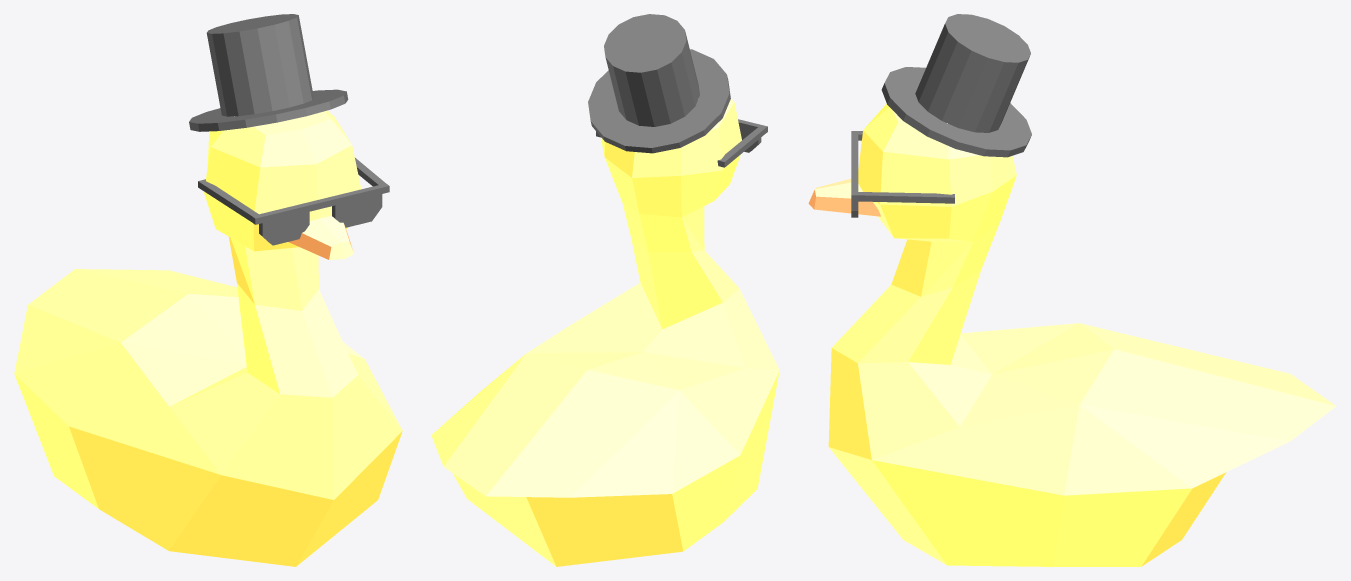
The model's file is adult duck.fbx.
The picture shows the model from 3 angles, left to right: view 1: azimuth 30°, elevation 25°; view 2: azimuth 150°, elevation 25°; view 3: azimuth 270°, elevation 25°; orthographic projection. The views are drawn at different scales.
Visible parts, largest first — view 1: Cube.004, Cylinder.002, Cube.006, Cube.005; view 2: Cube.004, Cylinder.002, Cube.006; view 3: Cube.004, Cylinder.002, Cube.006, Cube.005.
Boxes of the visible parts, x1,y1,x2,y2 form: Cube.004: (14, 110, 402, 566); Cylinder.002: (189, 14, 348, 131); Cube.006: (198, 158, 389, 245); Cube.005: (289, 216, 353, 259); Cube.004: (431, 98, 779, 566); Cylinder.002: (588, 14, 730, 153); Cube.006: (596, 119, 767, 167); Cube.004: (828, 104, 1336, 566); Cylinder.002: (881, 14, 1031, 157); Cube.006: (851, 131, 954, 217); Cube.005: (808, 178, 880, 216).
Size of the model in its own units: 301 by 521 by 483.
